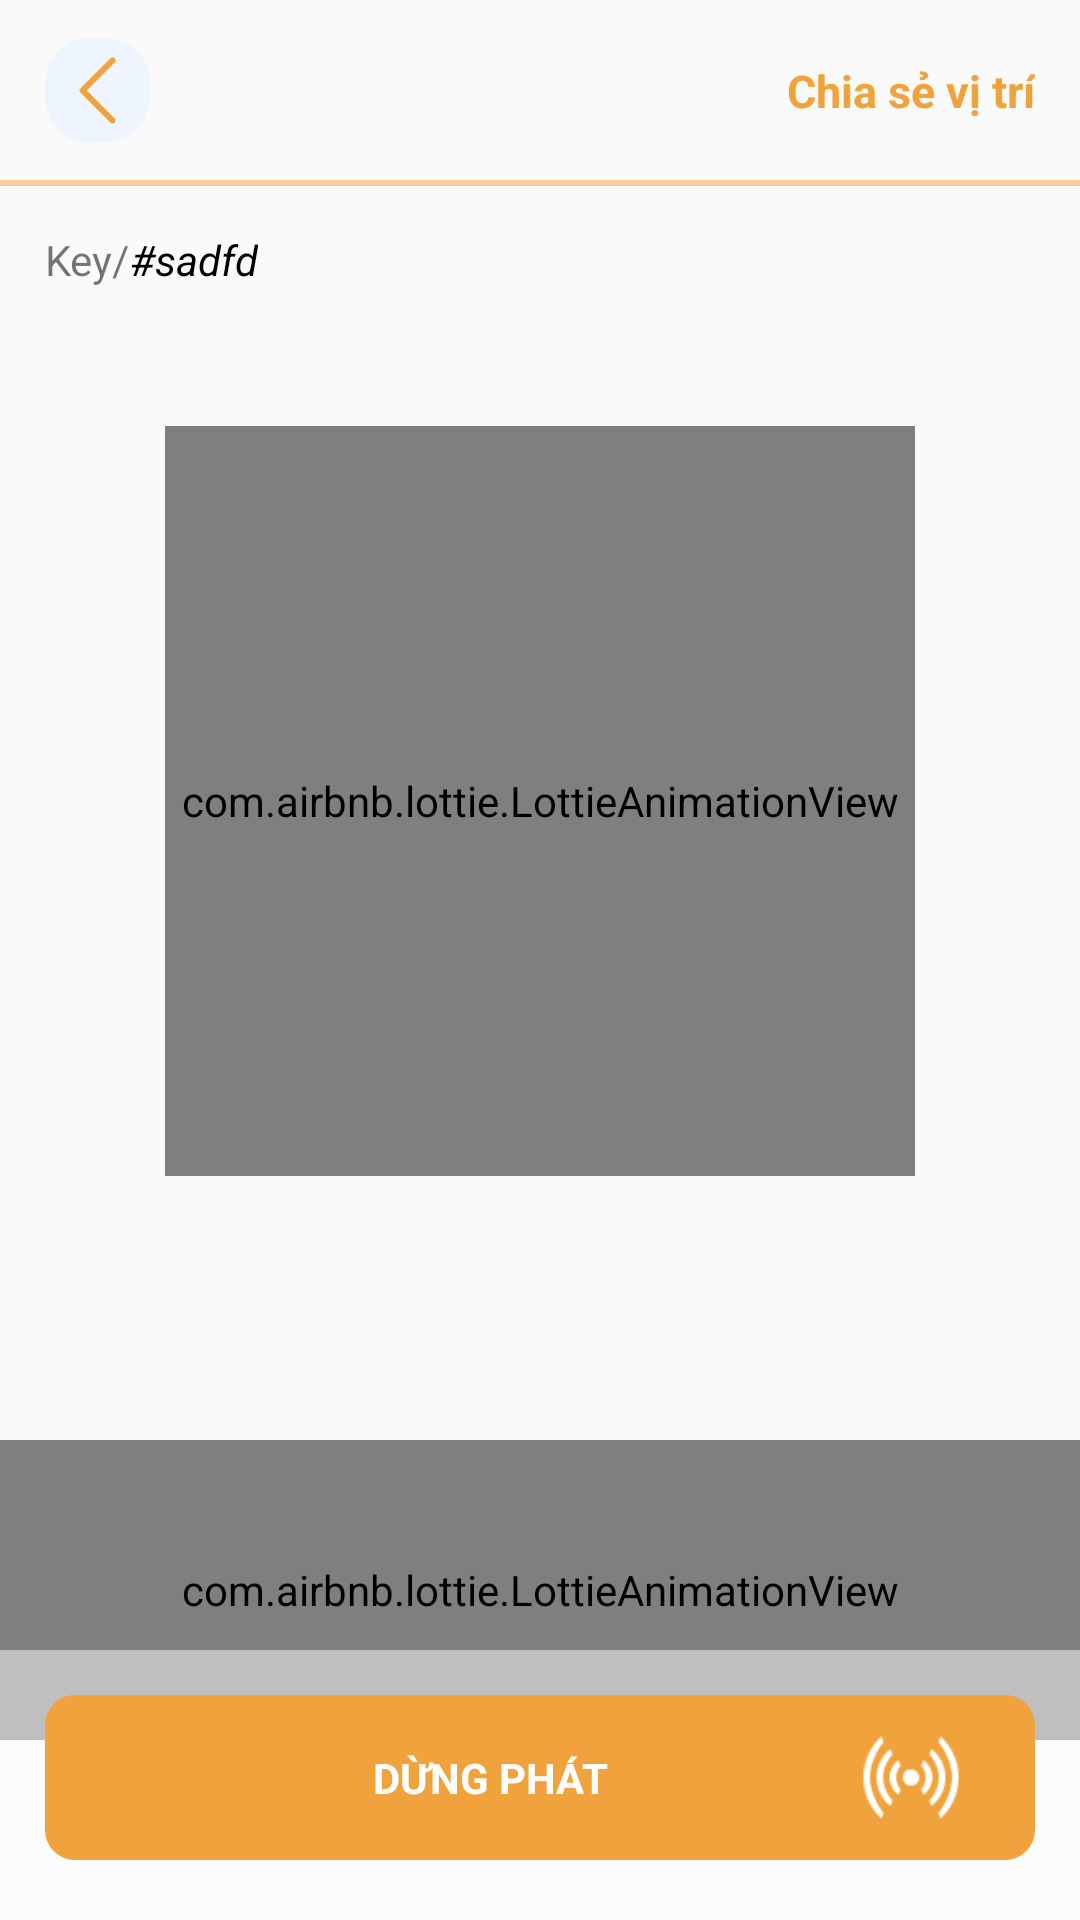

Named icons in this screenshot (1080px x 1920px) and their centers, (x,y):
back orage: (97,90)
phattinhieu: (911,1777)
